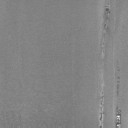slag inclusion: (94, 0, 125, 128), (110, 39, 121, 98), (110, 103, 123, 128)
